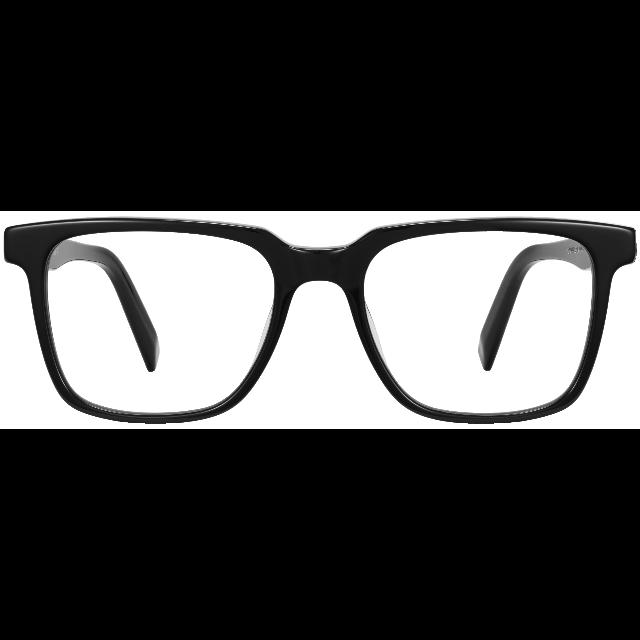glasses: (2, 212, 638, 428)
